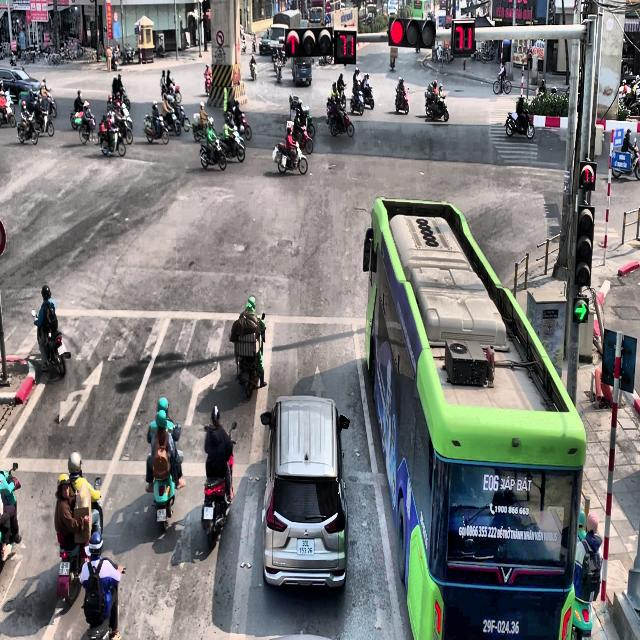BUS: (363, 196, 587, 639)
CAR: (260, 395, 350, 590), (0, 67, 42, 102)
MOTORBIKE: (56, 476, 103, 606), (201, 422, 237, 549), (151, 423, 182, 532), (84, 564, 126, 640), (235, 312, 266, 398), (31, 310, 70, 378), (0, 462, 21, 569), (611, 136, 640, 180), (274, 140, 308, 175), (199, 135, 227, 171), (218, 128, 246, 162), (326, 106, 354, 138), (505, 109, 534, 139), (143, 112, 169, 144), (100, 125, 126, 157), (424, 90, 449, 122), (17, 114, 38, 144), (32, 110, 54, 137), (79, 115, 98, 145), (294, 124, 313, 153), (0, 93, 16, 127), (162, 109, 181, 136), (192, 114, 209, 141), (493, 70, 511, 94), (395, 86, 409, 114), (350, 89, 364, 115), (360, 84, 374, 109), (45, 89, 57, 118), (70, 107, 85, 129), (272, 56, 283, 82), (336, 83, 346, 108), (249, 58, 257, 81), (204, 75, 212, 94)
TRAFFIC_LIGHT: (574, 204, 595, 288), (388, 17, 436, 49), (285, 26, 333, 58), (452, 20, 475, 55), (334, 29, 356, 64), (579, 161, 596, 190)
